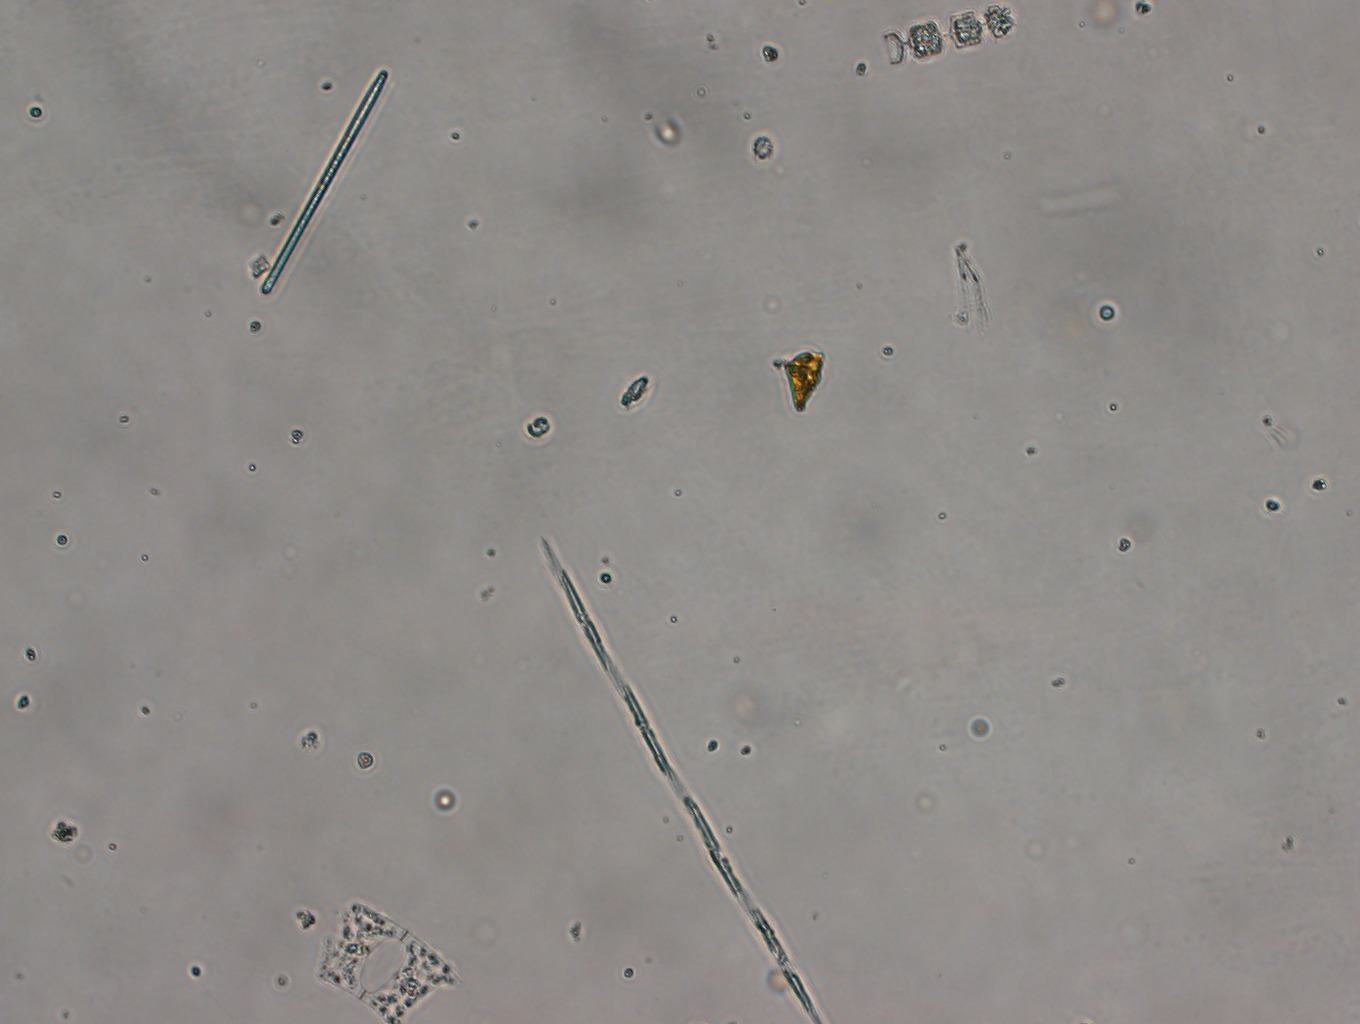chaetoceros: (881, 1, 1017, 65)
eucampia: (316, 899, 458, 1024)
